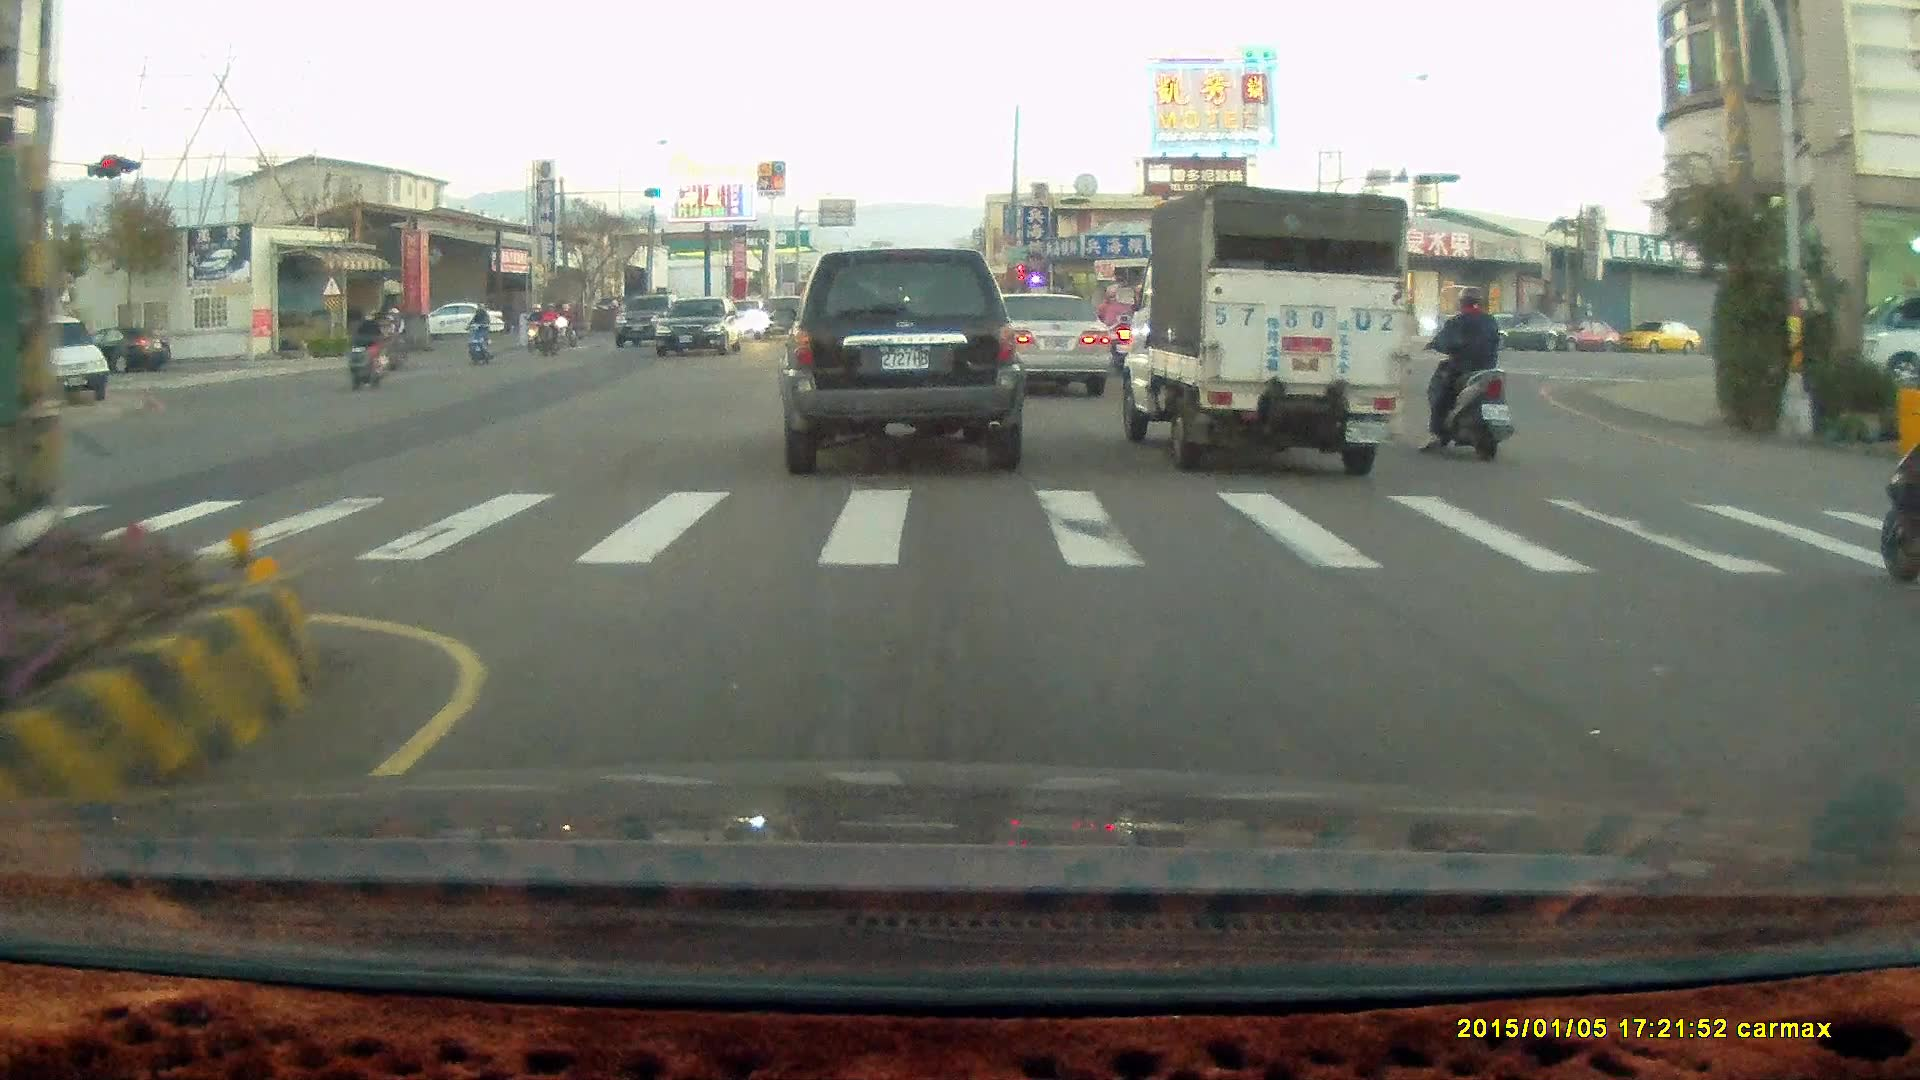rider: (1415, 280, 1514, 464), (1875, 436, 1920, 582), (349, 311, 389, 387), (466, 301, 495, 364), (533, 297, 562, 354), (522, 299, 551, 351)
vehicle: (1119, 182, 1408, 474), (776, 248, 1024, 475), (974, 290, 1116, 399), (974, 289, 1110, 394), (16, 314, 111, 404), (652, 295, 747, 360), (1464, 311, 1571, 356), (1858, 316, 1920, 392), (426, 302, 505, 341), (1554, 319, 1623, 355)
